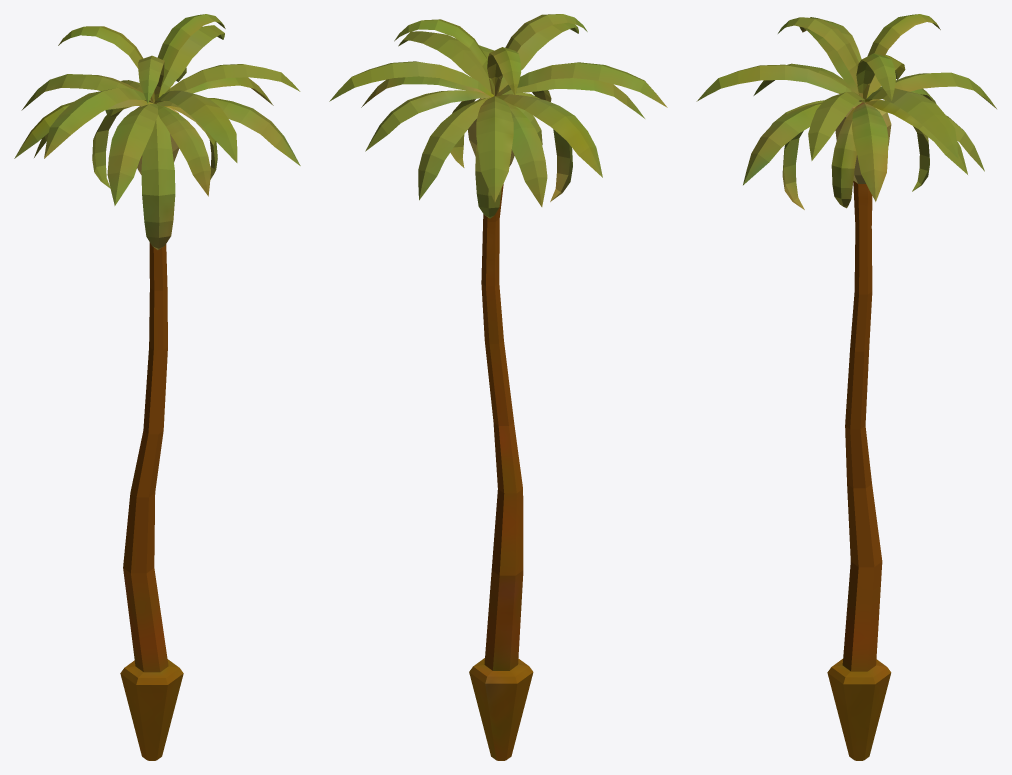
The model's file is mega-pack-cylinder.glb.
The picture shows the model from 3 angles, left to right: view 1: azimuth 30°, elevation 25°; view 2: azimuth 150°, elevation 25°; view 3: azimuth 270°, elevation 25°; orthographic projection.
Visible parts, largest first — view 1: Cylinder; view 2: Cylinder; view 3: Cylinder.
Part boxes in pixels (x1,y1,x2,y2): Cylinder: (14, 14, 300, 760); Cylinder: (329, 14, 667, 760); Cylinder: (696, 14, 996, 760).
Size of the model in its own units: 1.77 by 4.59 by 1.72.
1 material, 1 textured.
